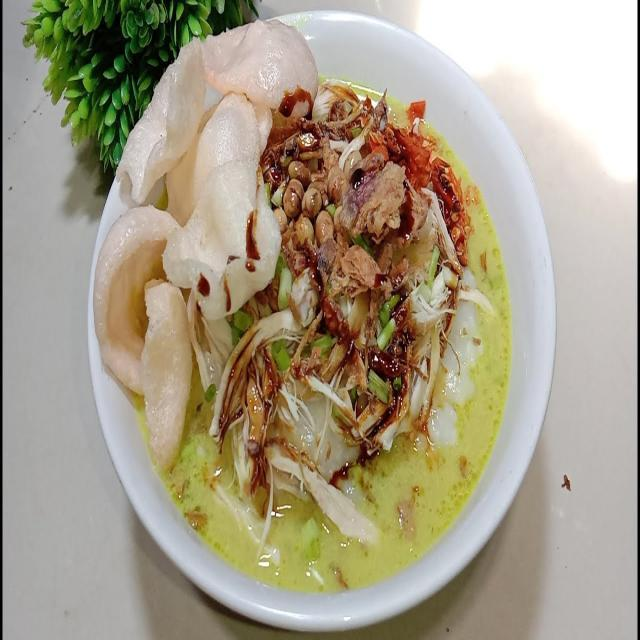bubur ayam: (140, 72, 512, 599)
mangkuk: (86, 11, 558, 628)
sambal: (366, 96, 468, 266)
